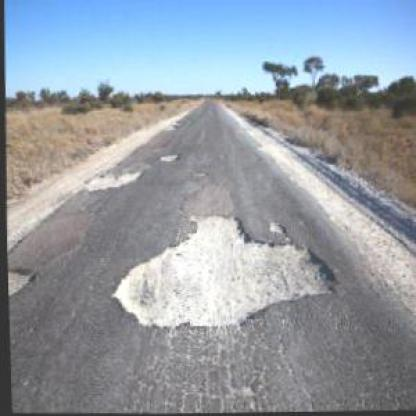pothole: (106, 208, 338, 333), (83, 162, 141, 193), (6, 262, 35, 295), (265, 220, 286, 236), (158, 150, 179, 161)
